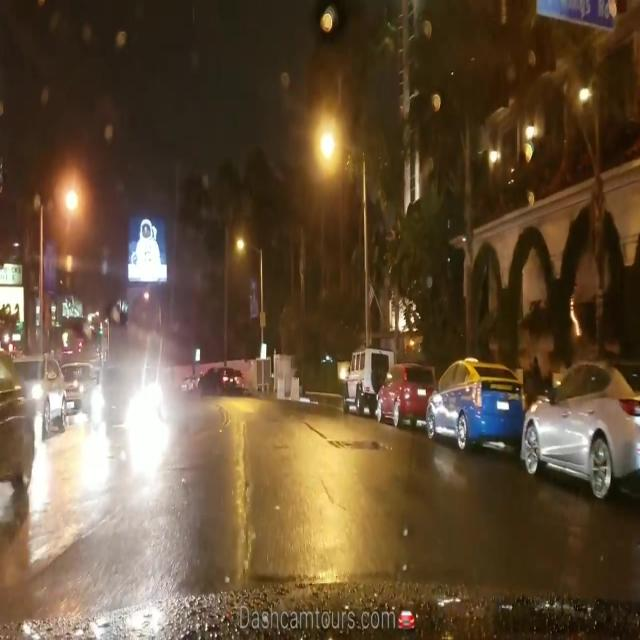Car: (521, 354, 633, 497), (423, 357, 522, 451), (376, 363, 425, 425), (343, 350, 378, 413)
